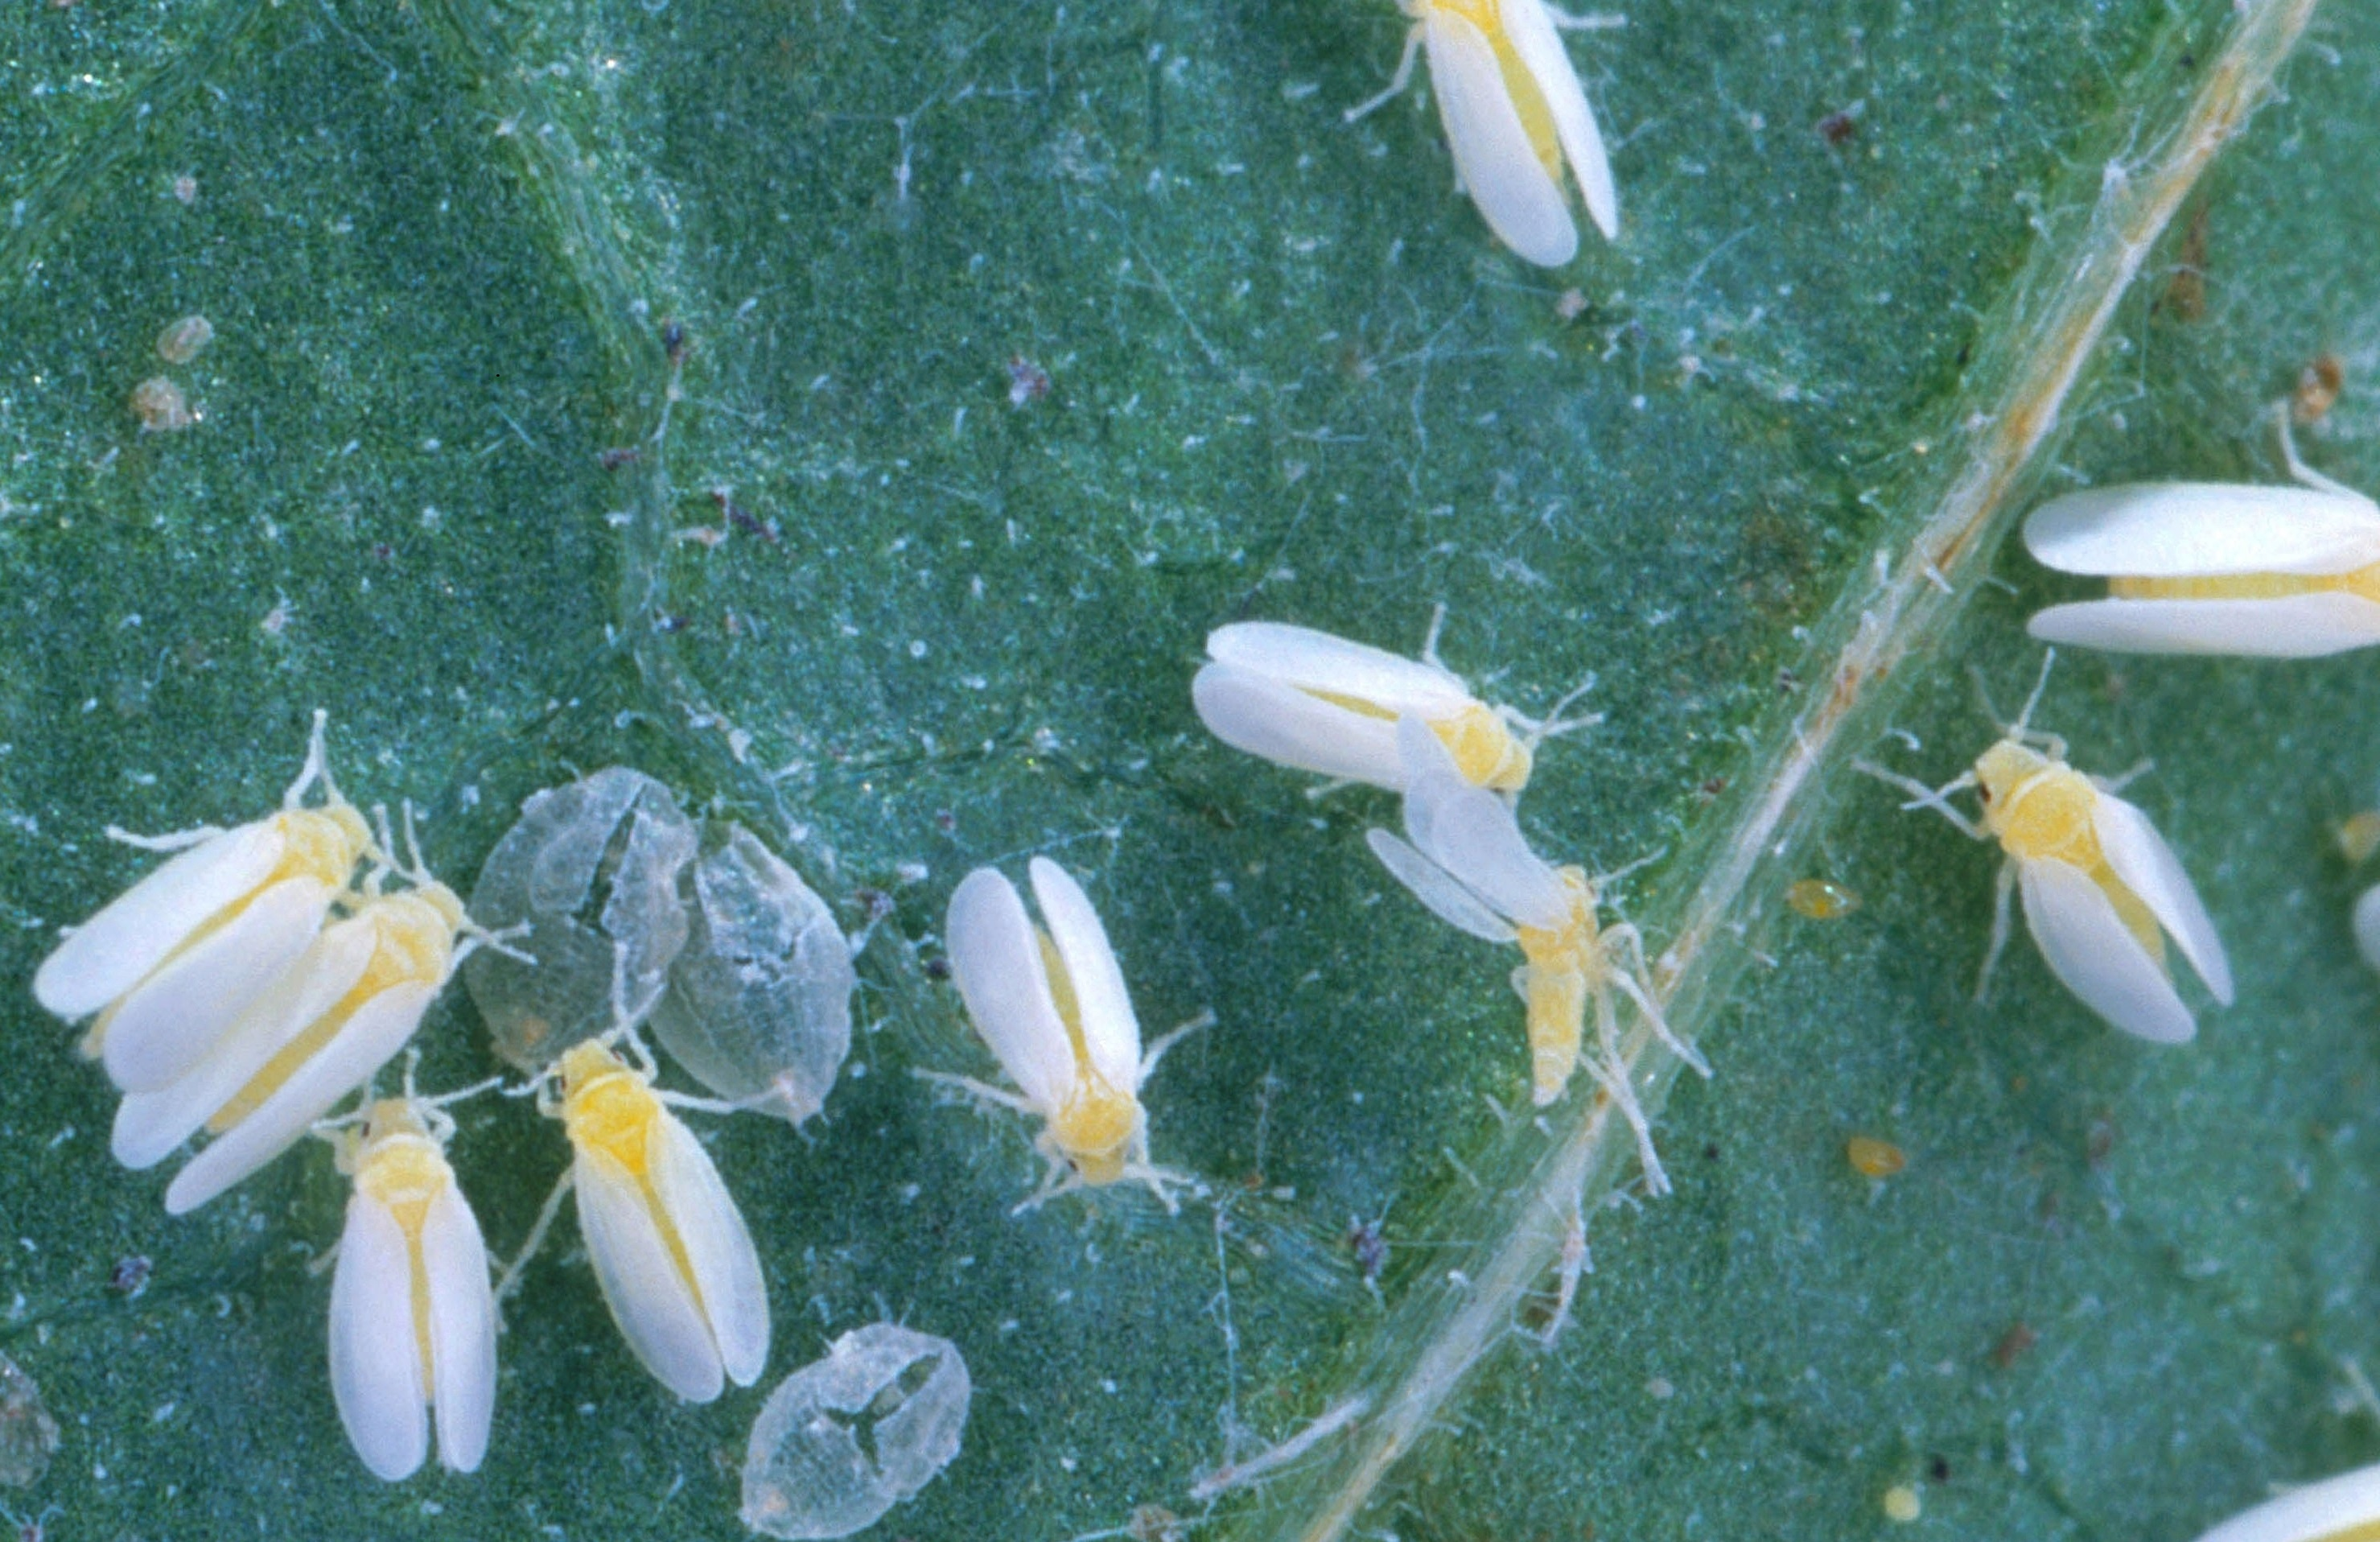Tobacco Whitefly: (1335, 709, 1675, 1178), (1884, 725, 2279, 1090), (266, 1082, 533, 1540), (31, 752, 382, 1060), (135, 870, 476, 1181), (1336, 1, 1675, 309), (943, 838, 1192, 1253), (552, 1007, 780, 1425), (1115, 604, 1568, 810), (2067, 438, 2380, 682)
